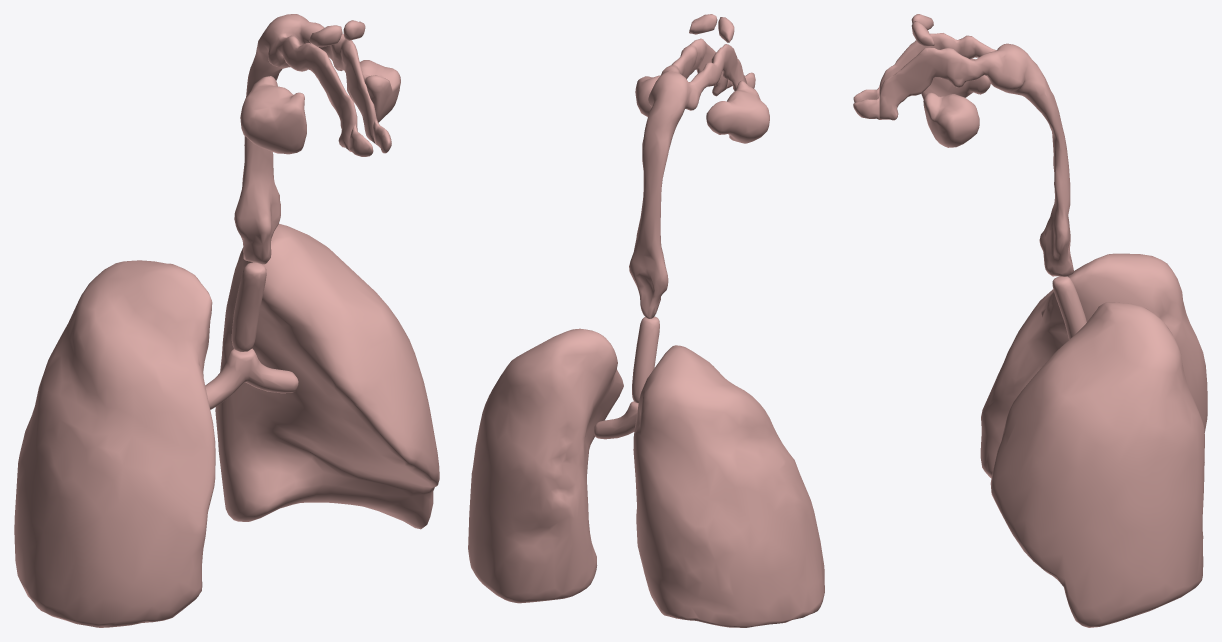
Rendered from pediatric_child_5y_male.respiratory.LOD0.glb.
The picture shows the model from 3 angles, left to right: view 1: azimuth 30°, elevation 25°; view 2: azimuth 150°, elevation 25°; view 3: azimuth 270°, elevation 25°; orthographic projection. The views are drawn at different scales.
Parts seen in each view (by area): view 1: PEDIATRIC.CHILD_5Y.MALE.RESPIRATORY.LUNG.R, PEDIATRIC.CHILD_5Y.MALE.RESPIRATORY.LUNG.L, PEDIATRIC.CHILD_5Y.MALE.RESPIRATORY.ET2, PEDIATRIC.CHILD_5Y.MALE.RESPIRATORY.BB1, PEDIATRIC.CHILD_5Y.MALE.RESPIRATORY.TRACHEA, PEDIATRIC.CHILD_5Y.MALE.RESPIRATORY.ET1; view 2: PEDIATRIC.CHILD_5Y.MALE.RESPIRATORY.LUNG.R, PEDIATRIC.CHILD_5Y.MALE.RESPIRATORY.LUNG.L, PEDIATRIC.CHILD_5Y.MALE.RESPIRATORY.ET2, PEDIATRIC.CHILD_5Y.MALE.RESPIRATORY.TRACHEA, PEDIATRIC.CHILD_5Y.MALE.RESPIRATORY.BB1; view 3: PEDIATRIC.CHILD_5Y.MALE.RESPIRATORY.LUNG.L, PEDIATRIC.CHILD_5Y.MALE.RESPIRATORY.ET2, PEDIATRIC.CHILD_5Y.MALE.RESPIRATORY.LUNG.R, PEDIATRIC.CHILD_5Y.MALE.RESPIRATORY.TRACHEA, PEDIATRIC.CHILD_5Y.MALE.RESPIRATORY.ET1.
Boxes of the visible parts, left/top/right/bottom form: PEDIATRIC.CHILD_5Y.MALE.RESPIRATORY.LUNG.R: left=14, top=260, right=215, bottom=627; PEDIATRIC.CHILD_5Y.MALE.RESPIRATORY.LUNG.L: left=215, top=223, right=439, bottom=529; PEDIATRIC.CHILD_5Y.MALE.RESPIRATORY.ET2: left=234, top=14, right=400, bottom=264; PEDIATRIC.CHILD_5Y.MALE.RESPIRATORY.BB1: left=205, top=348, right=298, bottom=409; PEDIATRIC.CHILD_5Y.MALE.RESPIRATORY.TRACHEA: left=231, top=262, right=266, bottom=351; PEDIATRIC.CHILD_5Y.MALE.RESPIRATORY.ET1: left=348, top=119, right=391, bottom=156; PEDIATRIC.CHILD_5Y.MALE.RESPIRATORY.LUNG.R: left=633, top=345, right=824, bottom=627; PEDIATRIC.CHILD_5Y.MALE.RESPIRATORY.LUNG.L: left=468, top=328, right=623, bottom=603; PEDIATRIC.CHILD_5Y.MALE.RESPIRATORY.ET2: left=629, top=14, right=769, bottom=318; PEDIATRIC.CHILD_5Y.MALE.RESPIRATORY.TRACHEA: left=632, top=316, right=659, bottom=403; PEDIATRIC.CHILD_5Y.MALE.RESPIRATORY.BB1: left=594, top=401, right=638, bottom=439; PEDIATRIC.CHILD_5Y.MALE.RESPIRATORY.LUNG.L: left=990, top=302, right=1204, bottom=627; PEDIATRIC.CHILD_5Y.MALE.RESPIRATORY.ET2: left=879, top=14, right=1073, bottom=276; PEDIATRIC.CHILD_5Y.MALE.RESPIRATORY.LUNG.R: left=980, top=253, right=1207, bottom=478; PEDIATRIC.CHILD_5Y.MALE.RESPIRATORY.TRACHEA: left=1052, top=276, right=1086, bottom=339; PEDIATRIC.CHILD_5Y.MALE.RESPIRATORY.ET1: left=853, top=86, right=879, bottom=119.
Bounding box in the file's own units: 0.172 × 0.2592 × 0.1555.
